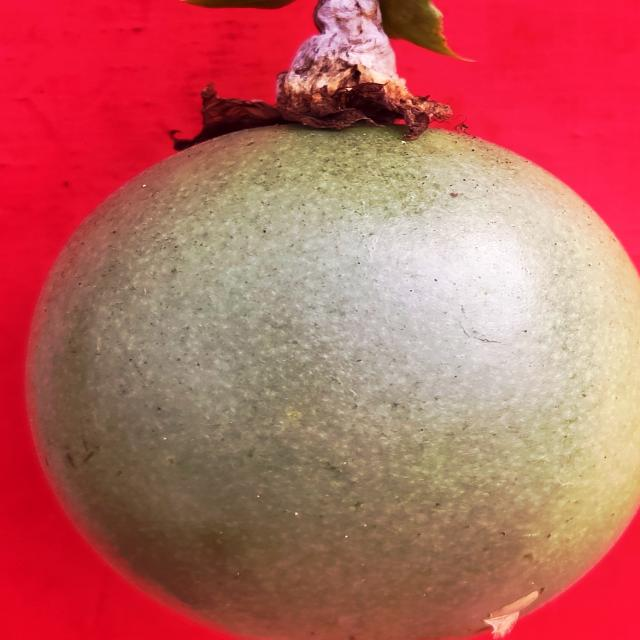Estado-1: (26, 0, 640, 640)
